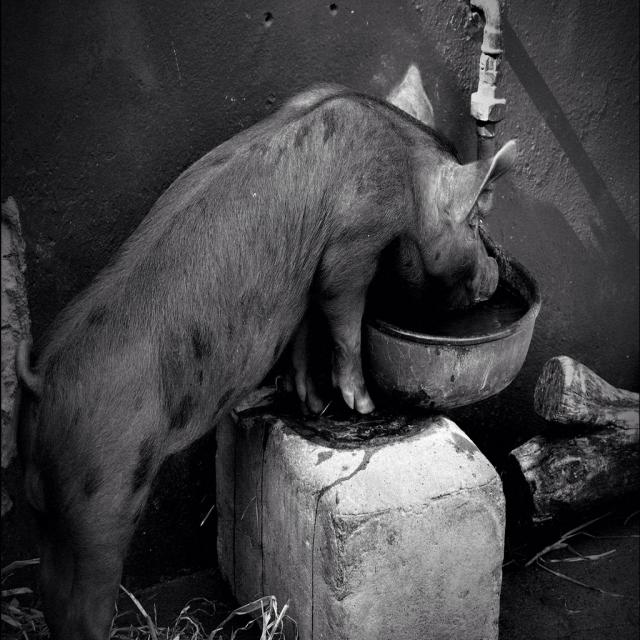Pig: (15, 61, 520, 639)
